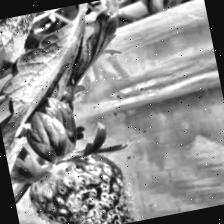Powdery Mildew Fruit: (23, 146, 139, 224)
